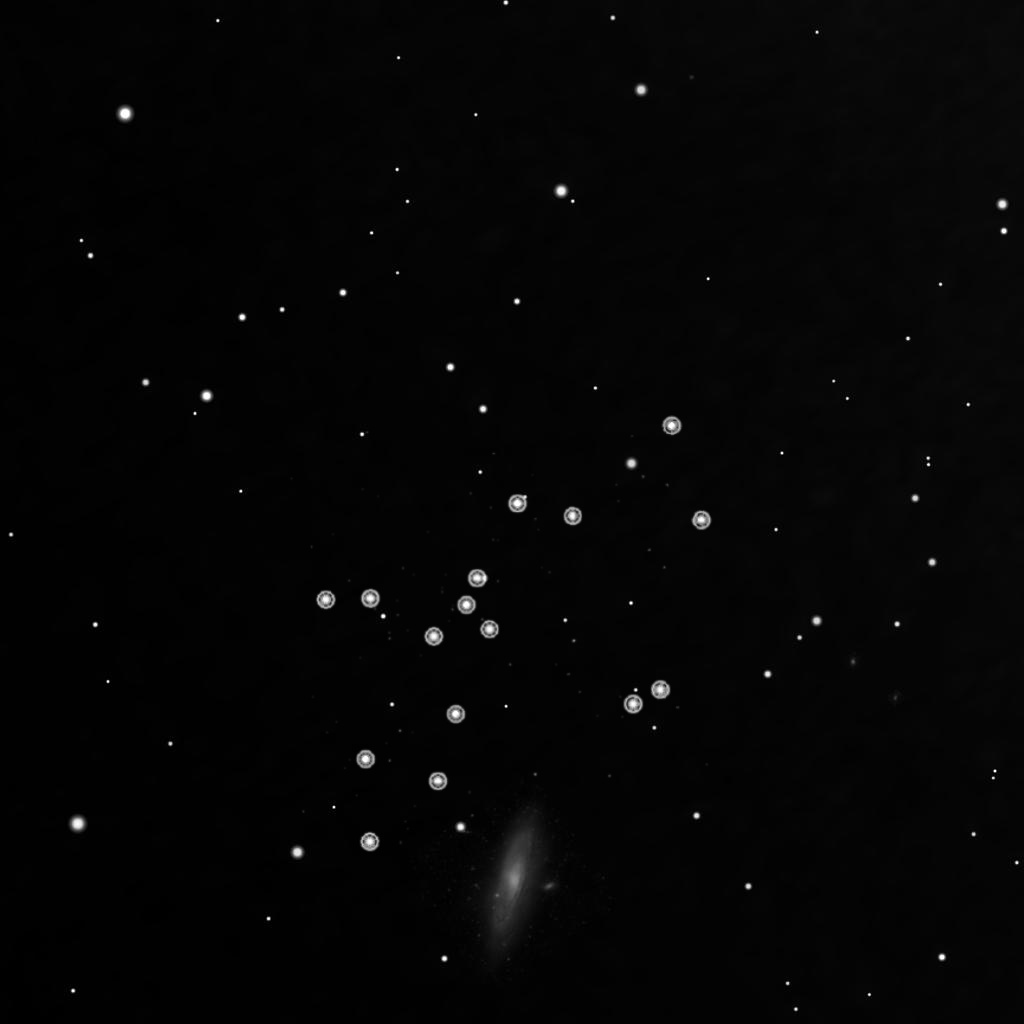canis_major: (419, 491, 589, 653)
